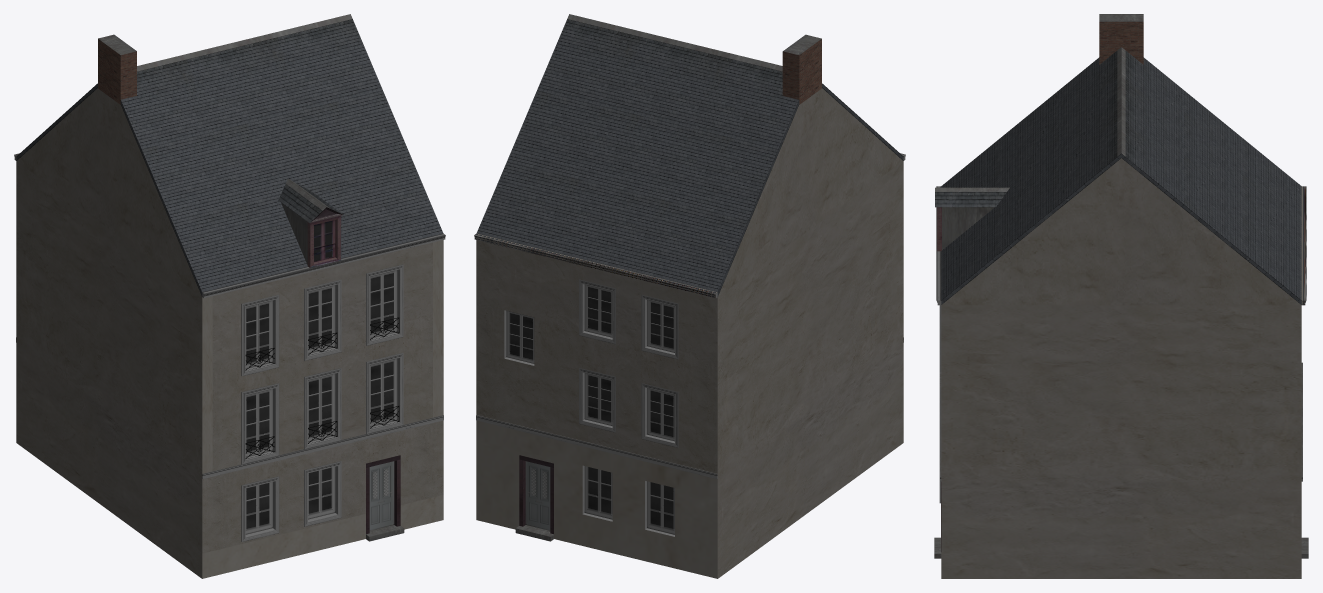
Rendered from laval_house_1_france.glb.
The picture shows the model from 3 angles, left to right: view 1: azimuth 30°, elevation 25°; view 2: azimuth 150°, elevation 25°; view 3: azimuth 270°, elevation 25°; orthographic projection. The views are drawn at different scales.
Parts seen in each view (by area): view 1: 2_Material_0; view 2: 2_Material_0; view 3: 2_Material_0.
Boxes of the visible parts, box(x1,y1,x2,y2) form: 2_Material_0: box(14, 14, 445, 578); 2_Material_0: box(474, 14, 905, 578); 2_Material_0: box(934, 14, 1308, 578).
Bounding box in the file's own units: 8 × 14.7 × 11.06.
1 material, 1 textured.
